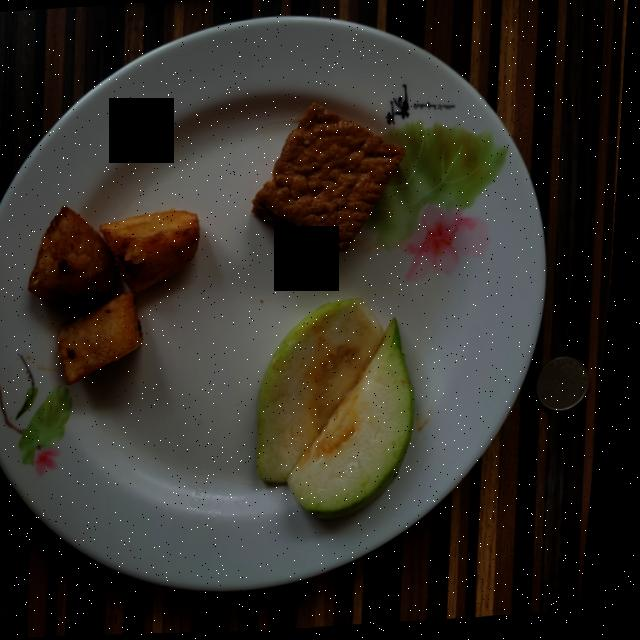coin: (542, 360, 596, 415)
egg tofu: (256, 105, 407, 254)
fried potato: (33, 207, 203, 385)
guava -sliced-: (265, 301, 421, 521)
